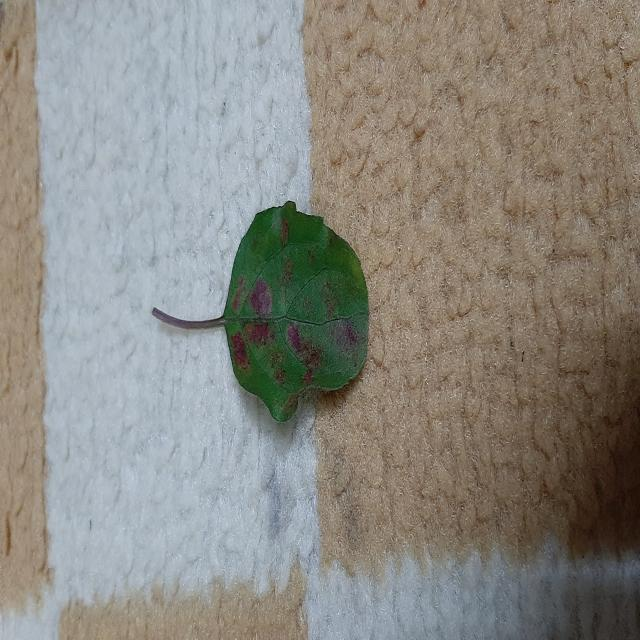defectedtulsi: (226, 230, 369, 393)
tulsi: (152, 201, 369, 420)
